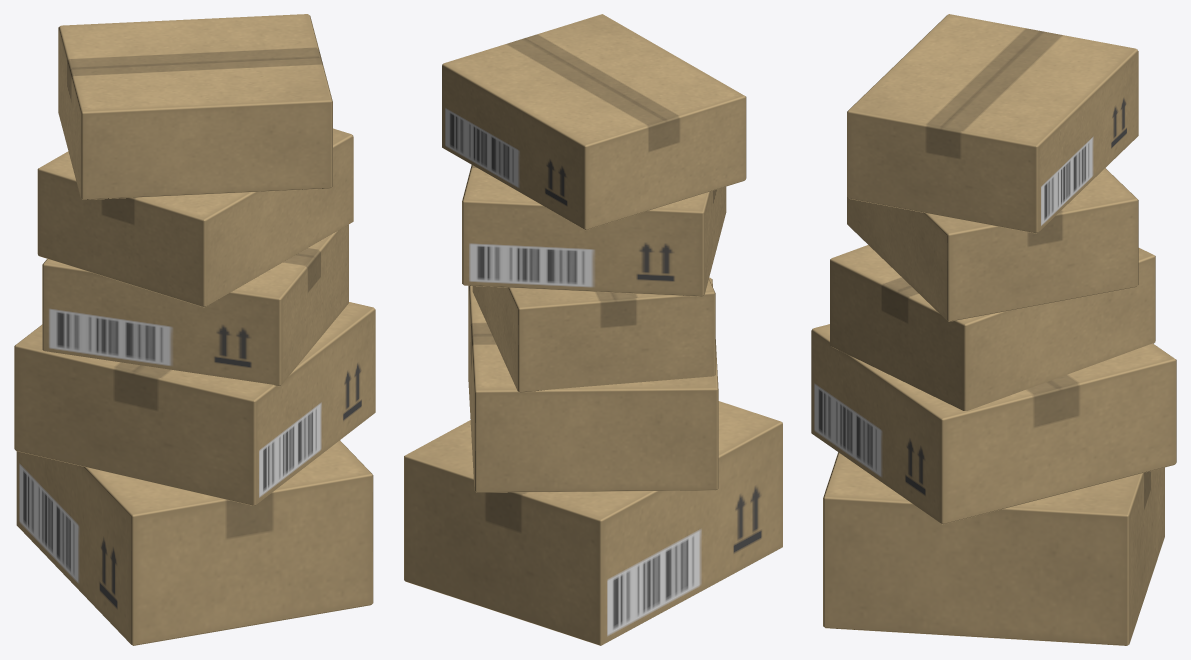
The model's file is BoxStack.fbx.
3 views of the same model, side by side, from view 1: azimuth 30°, elevation 25°; view 2: azimuth 150°, elevation 25°; view 3: azimuth 270°, elevation 25° (orthographic). The views are drawn at different scales.
Parts seen in each view (by area): view 1: BoxStack; view 2: BoxStack; view 3: BoxStack.
Boxes of the visible parts, <box> form: BoxStack: <box>14,14,375,645</box>; BoxStack: <box>404,14,782,645</box>; BoxStack: <box>811,14,1176,645</box>.
Bounding box in the file's own units: 103 × 159 × 105.
